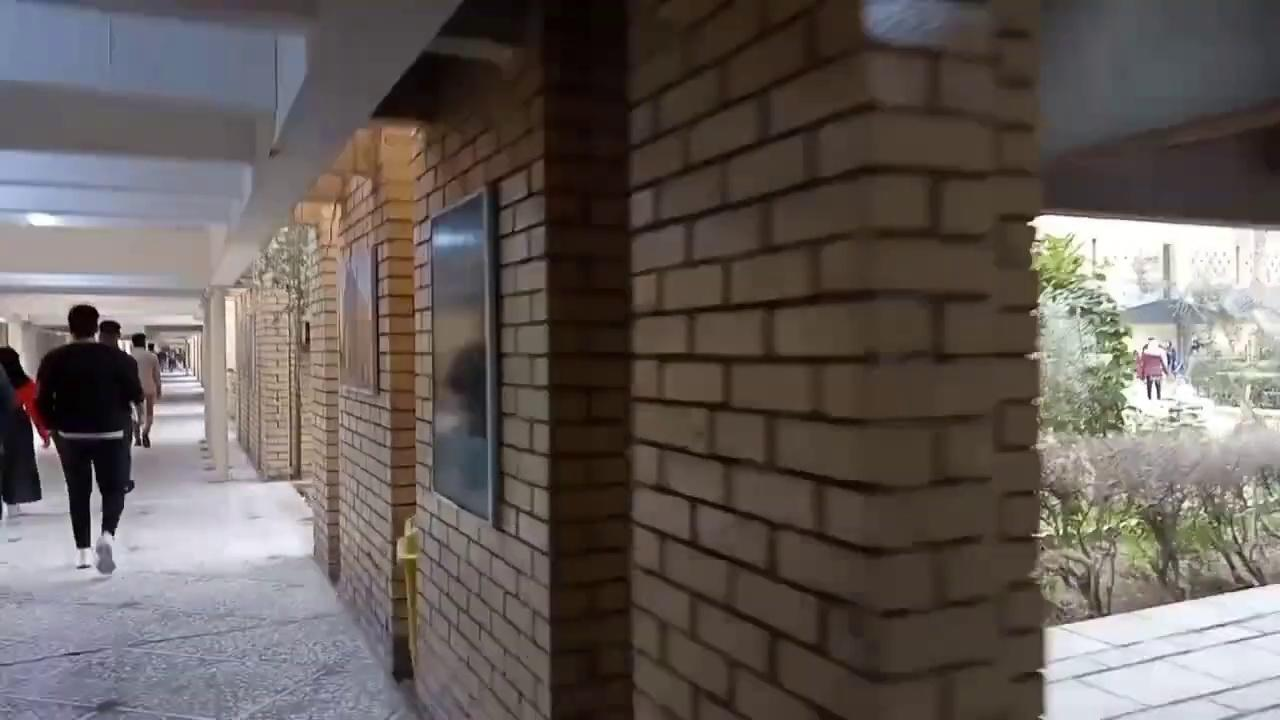person: (34, 303, 146, 573), (0, 346, 50, 517), (96, 320, 142, 493), (128, 332, 162, 448), (1137, 336, 1170, 399), (1164, 340, 1176, 372)
tree: (1027, 228, 1278, 622), (1028, 230, 1139, 438), (248, 223, 325, 479), (1168, 270, 1277, 359), (251, 223, 325, 324)
